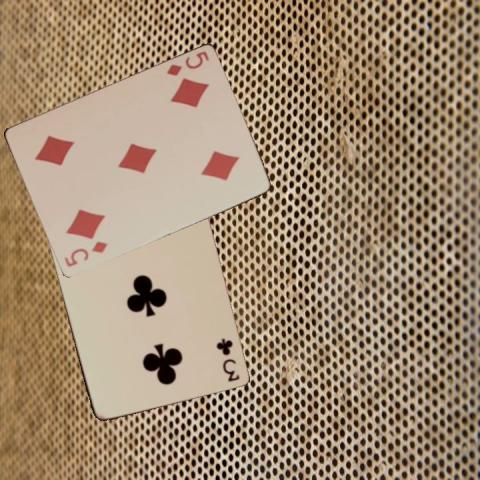3c: (214, 335, 241, 383)
5d: (61, 238, 109, 268), (163, 48, 211, 78)
